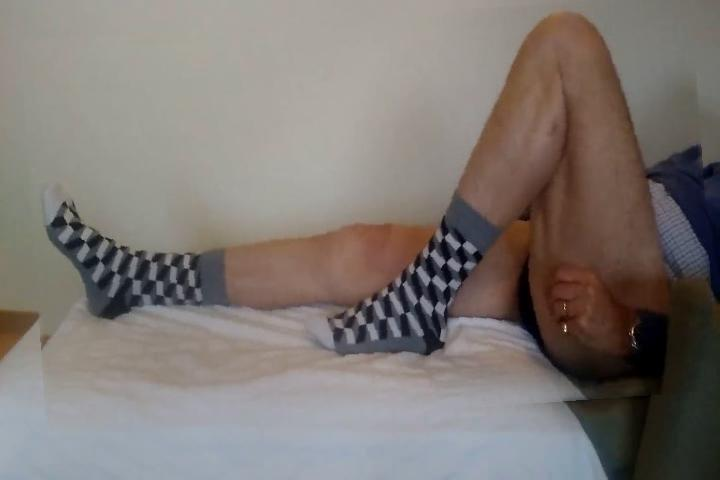lowerbody: (27, 6, 713, 426)
